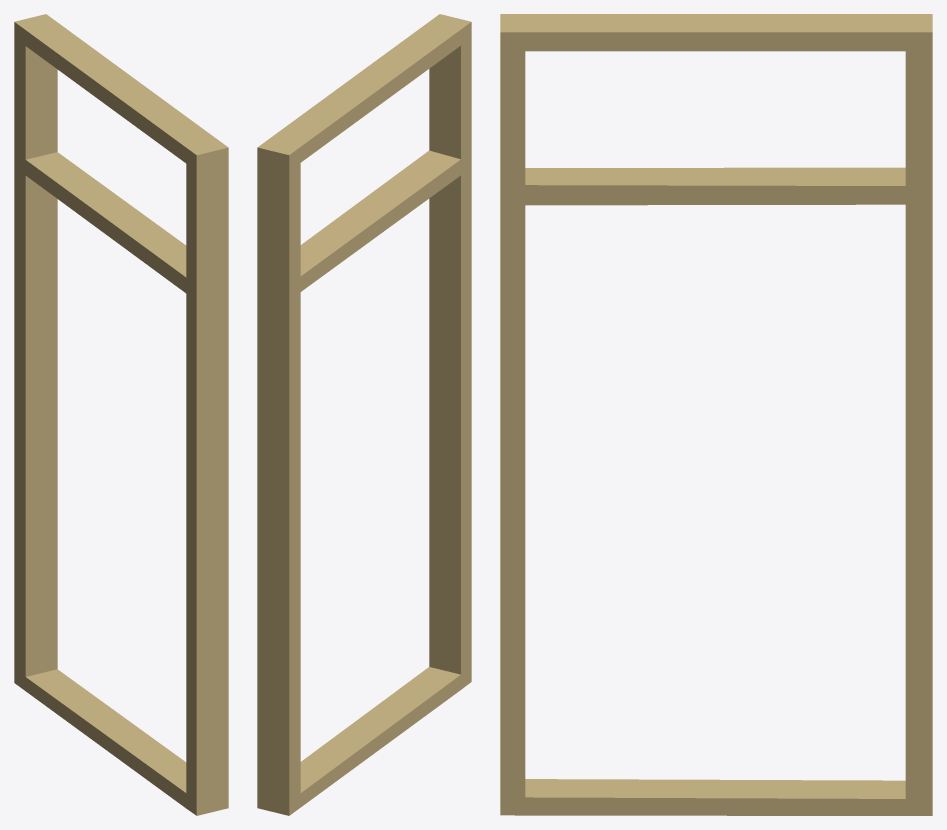
The model's file is doorway simple.fbx.
3 renders of one model, left to right at view 1: azimuth 30°, elevation 25°; view 2: azimuth 150°, elevation 25°; view 3: azimuth 270°, elevation 25°, orthographic. The views are drawn at different scales.
Parts seen in each view (by area): view 1: pCube1; view 2: pCube1; view 3: pCube1.
Boxes of the visible parts, x1=… form: pCube1: x1=14, y1=14, x2=228, y2=815; pCube1: x1=257, y1=14, x2=471, y2=815; pCube1: x1=500, y1=14, x2=932, y2=815.
Size of the model in its own units: 5.5 by 109 by 54.5.
